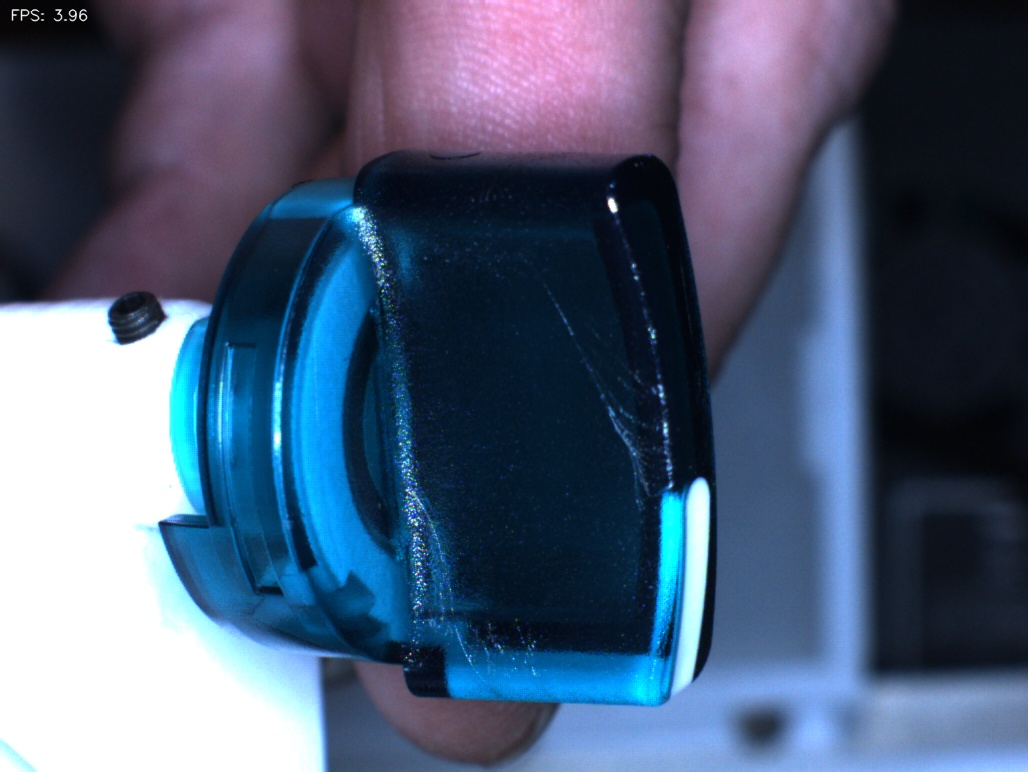Givrage: (578, 345, 662, 497)
